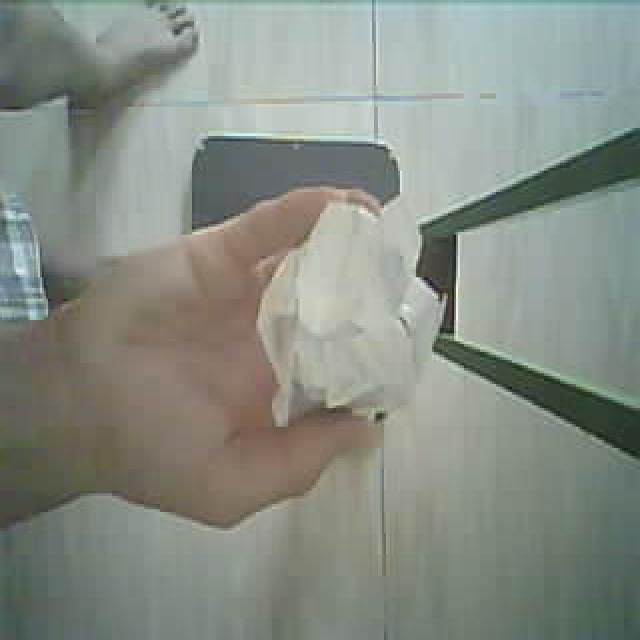Paper: (260, 190, 449, 439)
